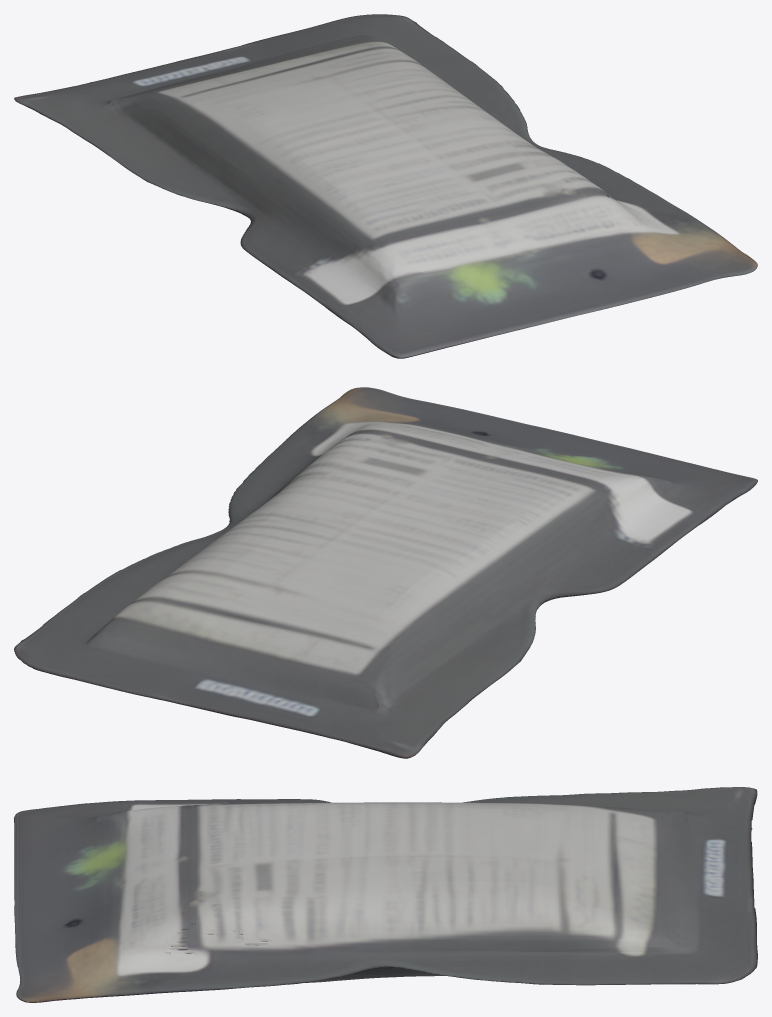
3 renders of one model, top to bottom at view 1: azimuth 30°, elevation 25°; view 2: azimuth 150°, elevation 25°; view 3: azimuth 270°, elevation 25°, orthographic. The views are drawn at different scales.
Parts seen in each view (by area): view 1: mesh.obj; view 2: mesh.obj; view 3: mesh.obj.
Boxes of the visible parts, x1,y1,x2,y2 form: mesh.obj: (14,14,757,358); mesh.obj: (14,387,757,758); mesh.obj: (14,787,757,1002).
Size of the model in its own units: 0.1203 by 0.0246 by 0.1846.
